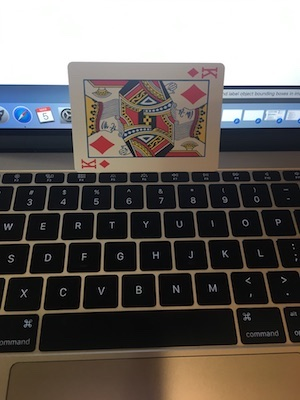KingOfDiamonds: (46, 47, 234, 178)
